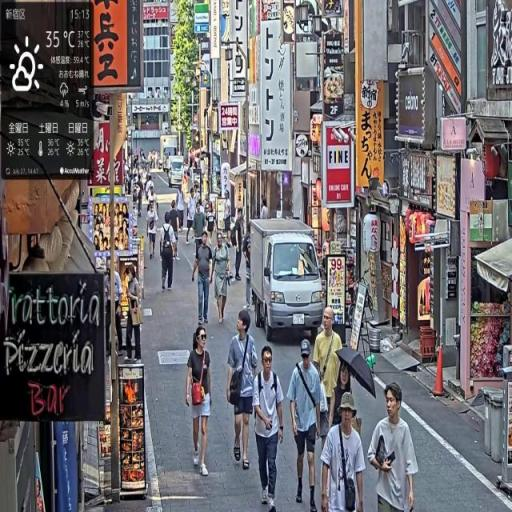person: (287, 334, 329, 512), (368, 378, 417, 512), (252, 344, 287, 512), (320, 392, 367, 512), (226, 307, 259, 472), (186, 324, 215, 479), (211, 230, 234, 326), (193, 231, 215, 325), (126, 266, 144, 363), (160, 211, 179, 294), (147, 202, 158, 260)
